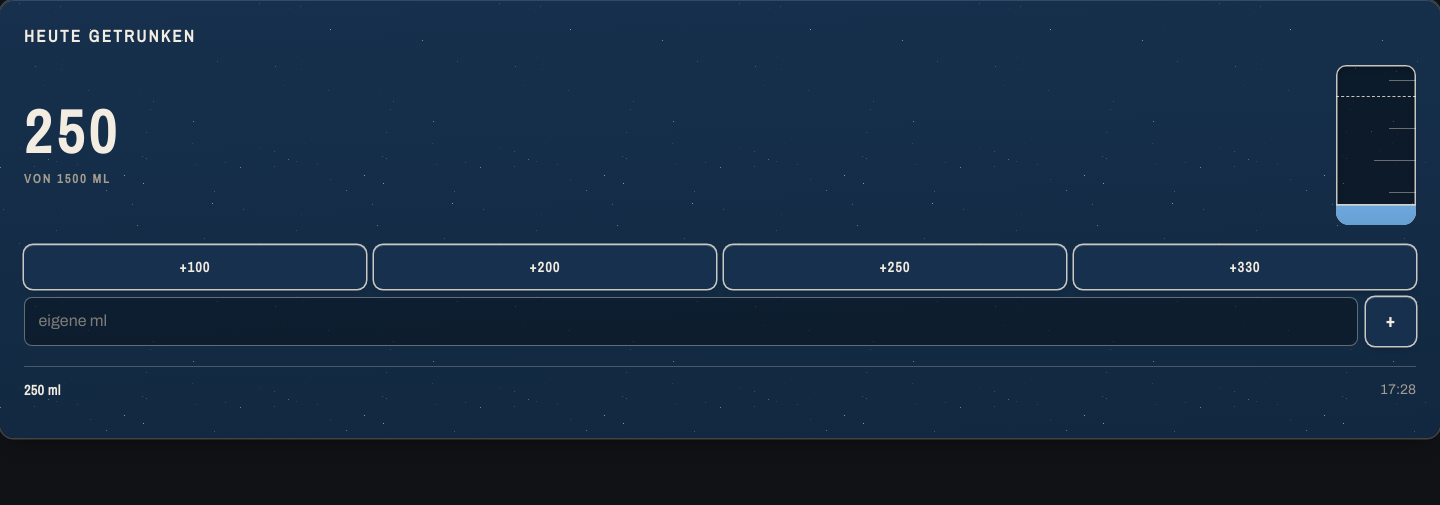
Test: DrinkCard › shows the current total and adds ml on a quick-add click
This screenshot has width=1440, height=505.
Expected: the text "250" is shown, [24,91,120,172]
Click the button "+250": point(895, 267) [724,245,1066,289]
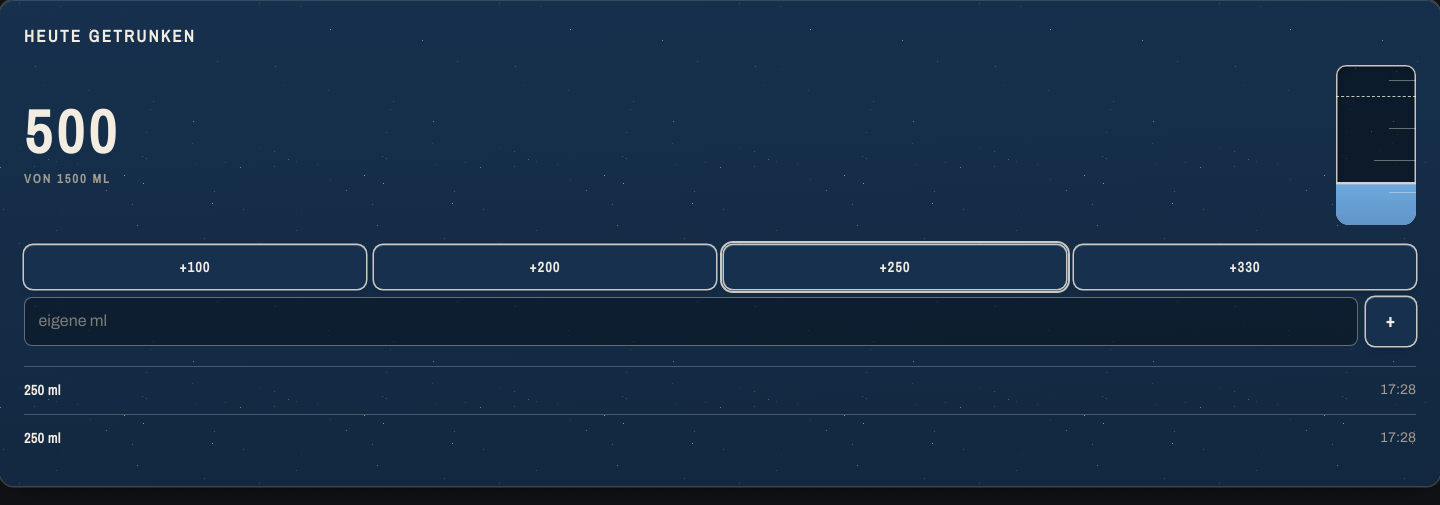
Now the text "500" is shown, box [24,91,120,172]
